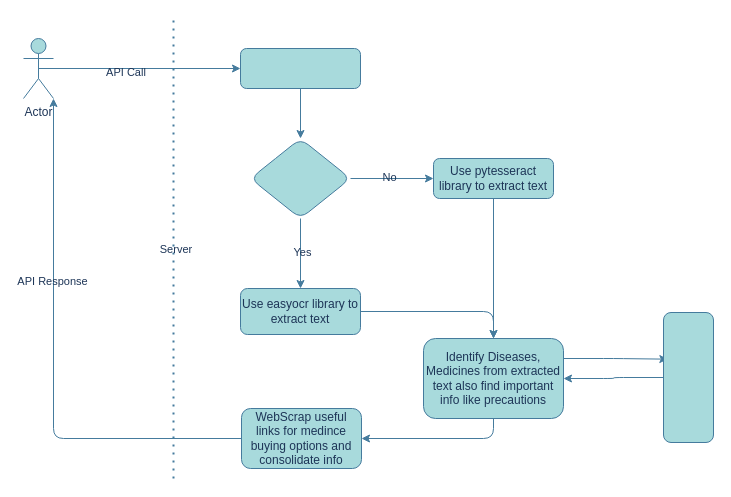
The diagram is 731 pixels wide and 497 high, and some of its shapes have lost their labels. Here are the shapes that lost their labels. From the top down, the box of each, then its label:
(240, 48, 360, 88): Read Prescription passed by User
(250, 138, 350, 218): Handwrittten Text
(662, 312, 714, 442): Azure OpenAI
